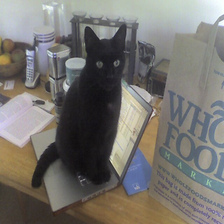laptop: (24, 81, 150, 211)
